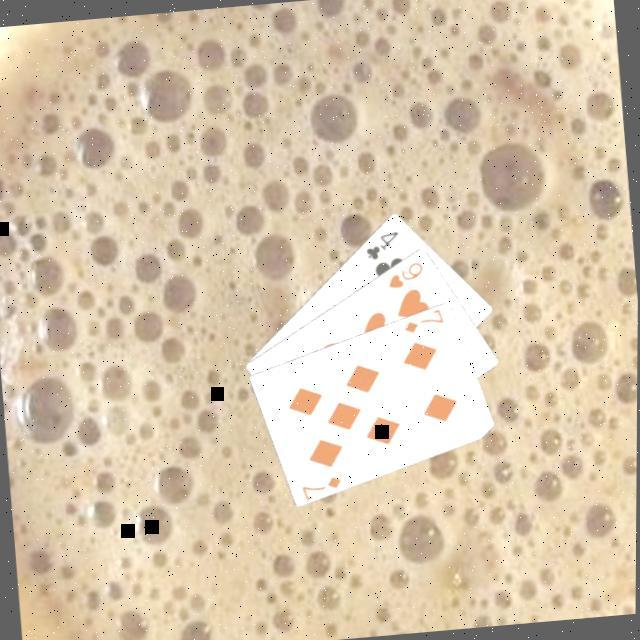4C: (362, 229, 405, 265)
7D: (402, 308, 450, 338), (300, 473, 348, 503)
9H: (384, 258, 429, 293)
